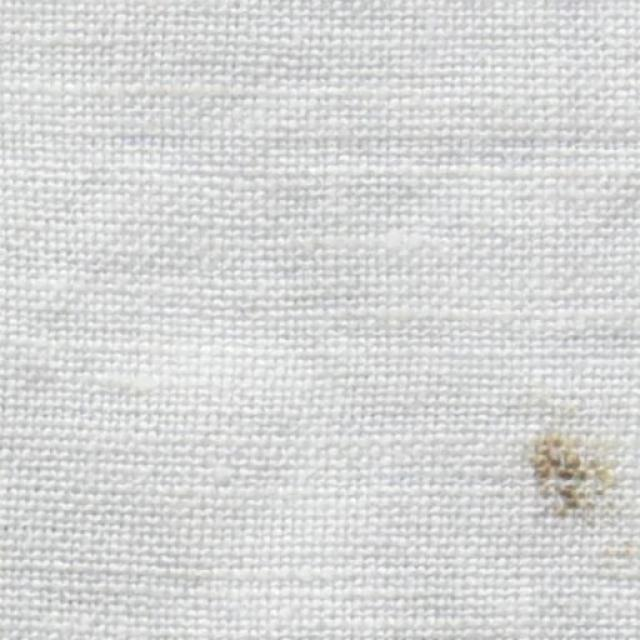Stain: (536, 439, 615, 535)
